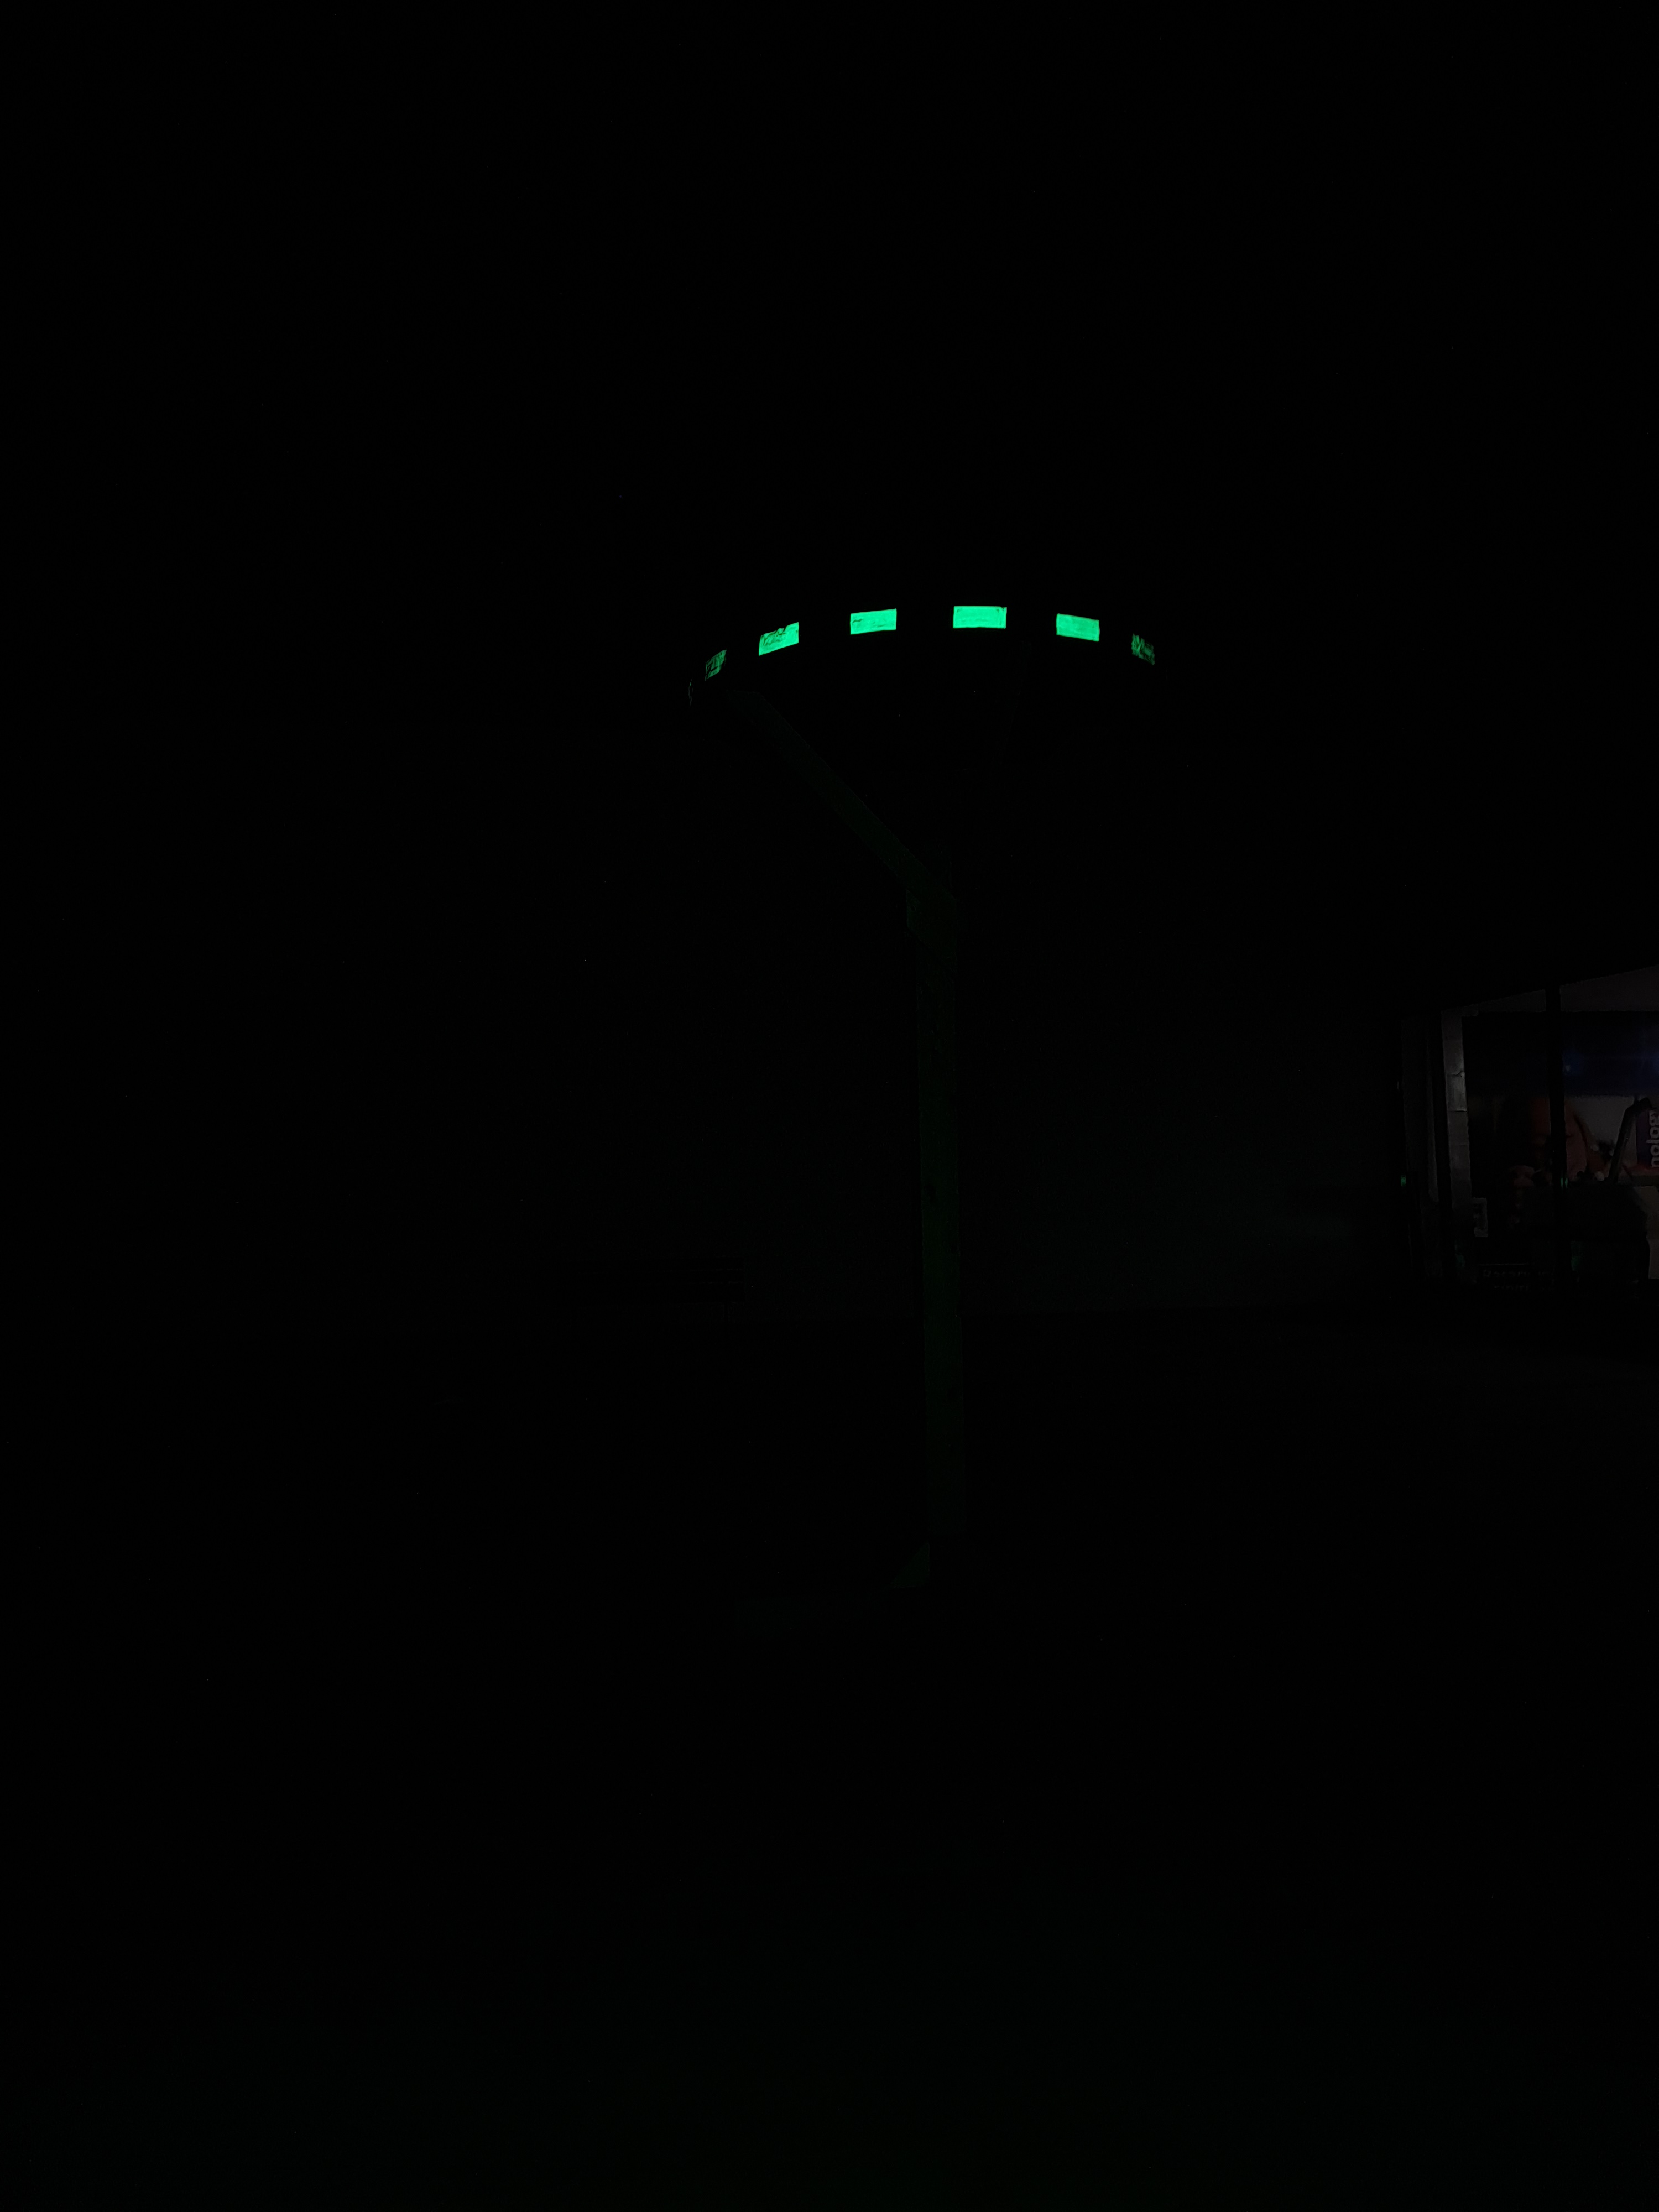hoop: (680, 570, 1204, 707)
